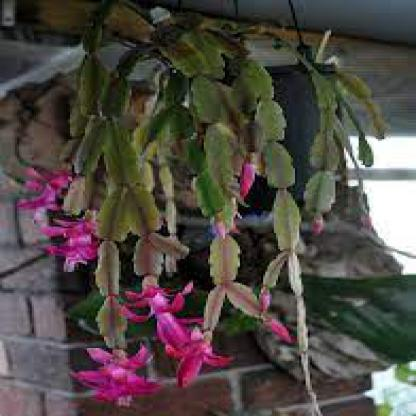Aglonema: (312, 4, 377, 91)
